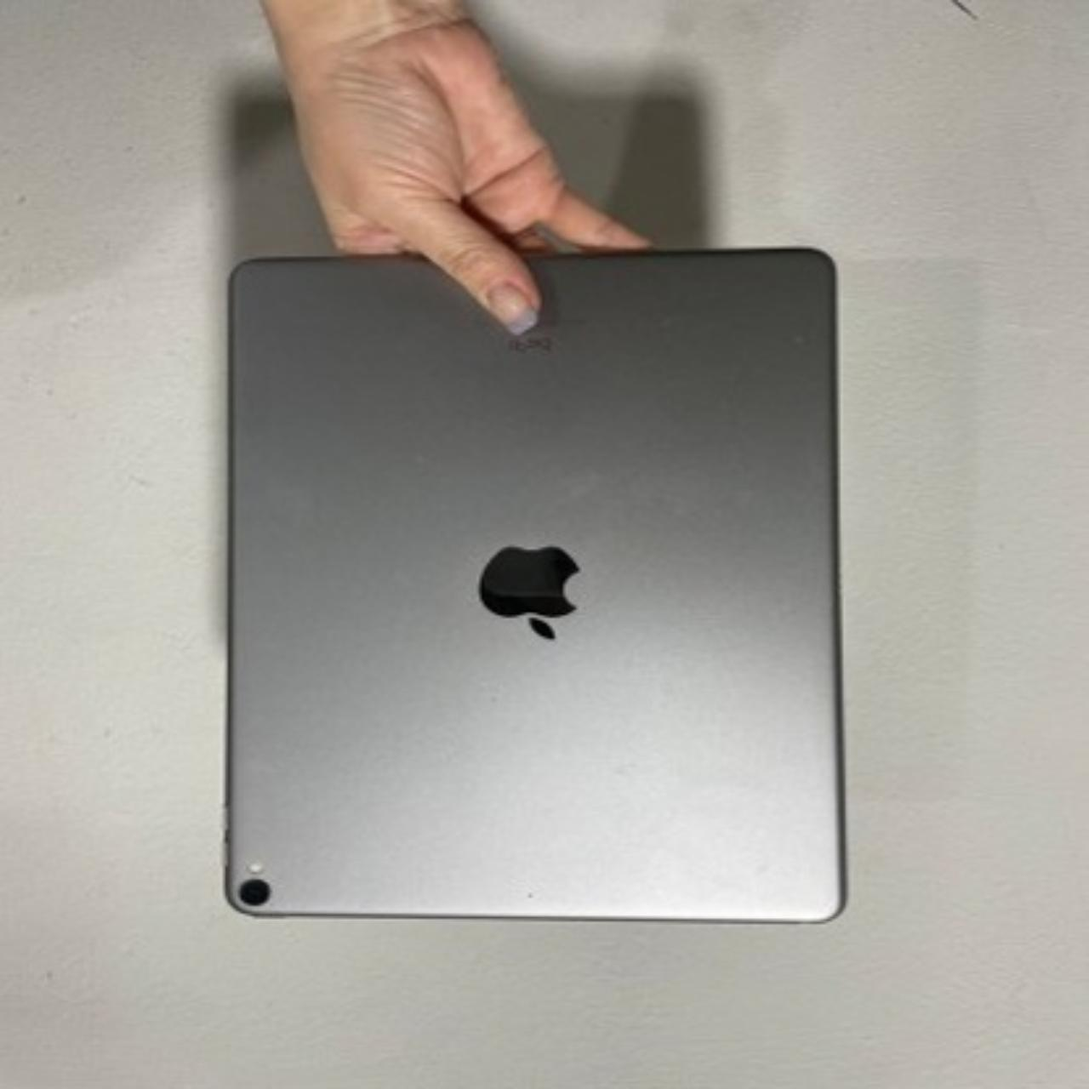Tablet_PC: (212, 234, 874, 942)
